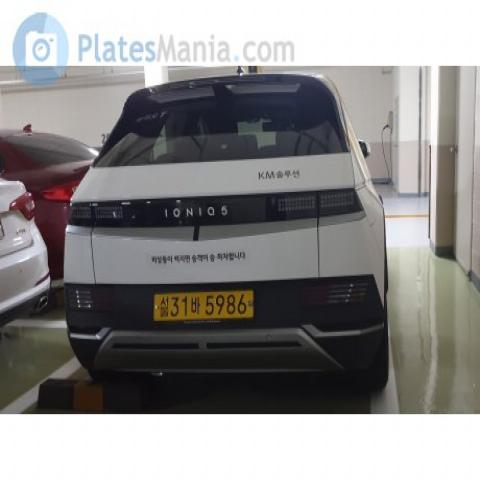LP: (146, 285, 259, 331)
